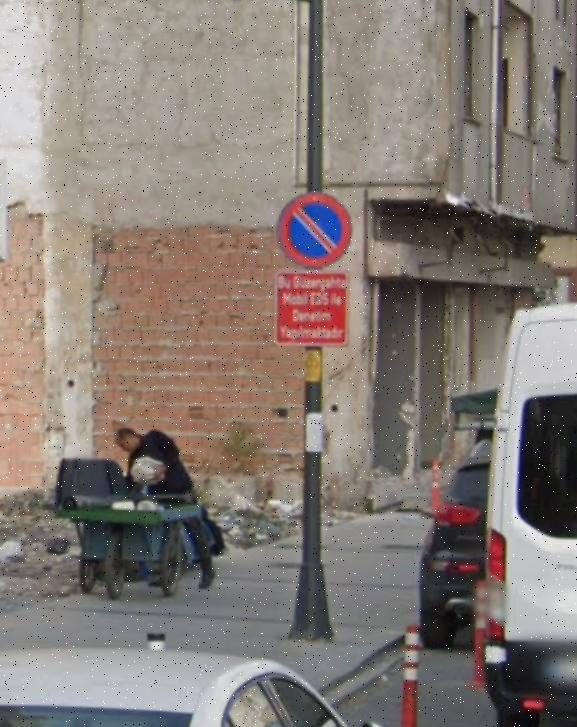nopark: (286, 196, 349, 263)
